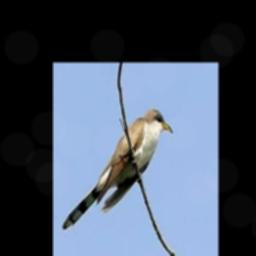Cuckoo: (62, 109, 172, 230)
